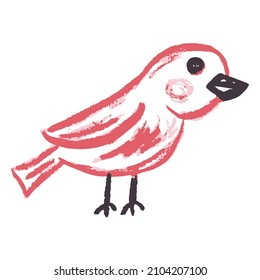bird: (9, 42, 250, 216)
